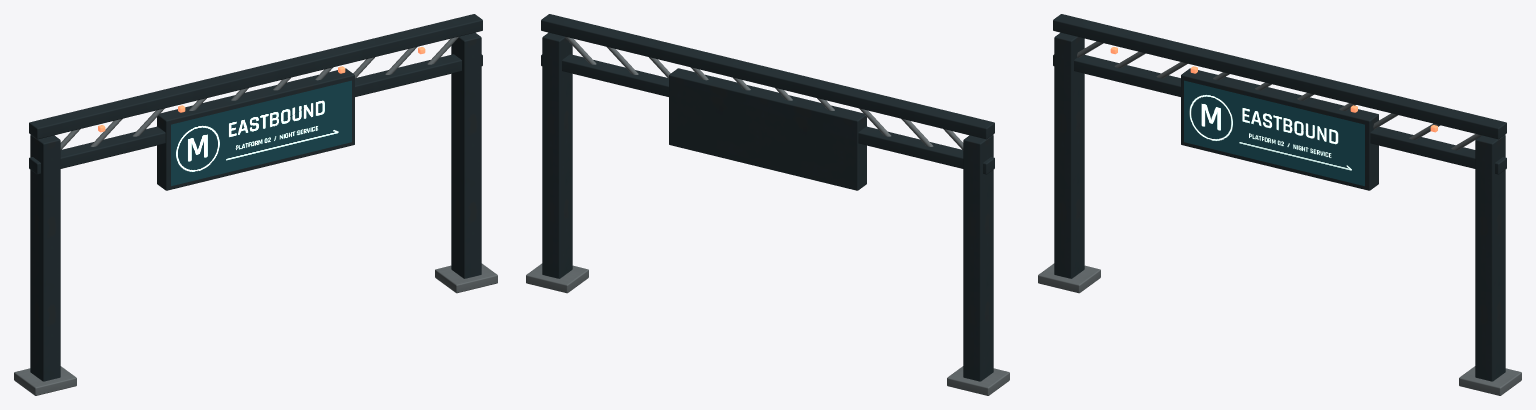
The model's file is NC_TransitGantry_LOD0.fbx.
3 renders of one model, left to right at view 1: azimuth 30°, elevation 25°; view 2: azimuth 150°, elevation 25°; view 3: azimuth 330°, elevation 25°, orthographic.
Visible parts, largest first — view 1: NC_TransitGantry_LOD0; view 2: NC_TransitGantry_LOD0; view 3: NC_TransitGantry_LOD0.
Boxes of the visible parts, x1,y1,x2,y2 form: NC_TransitGantry_LOD0: (14,14,497,395); NC_TransitGantry_LOD0: (526,14,1009,395); NC_TransitGantry_LOD0: (1038,14,1521,395).
Size of the model in its own units: 1100 by 593 by 90.
